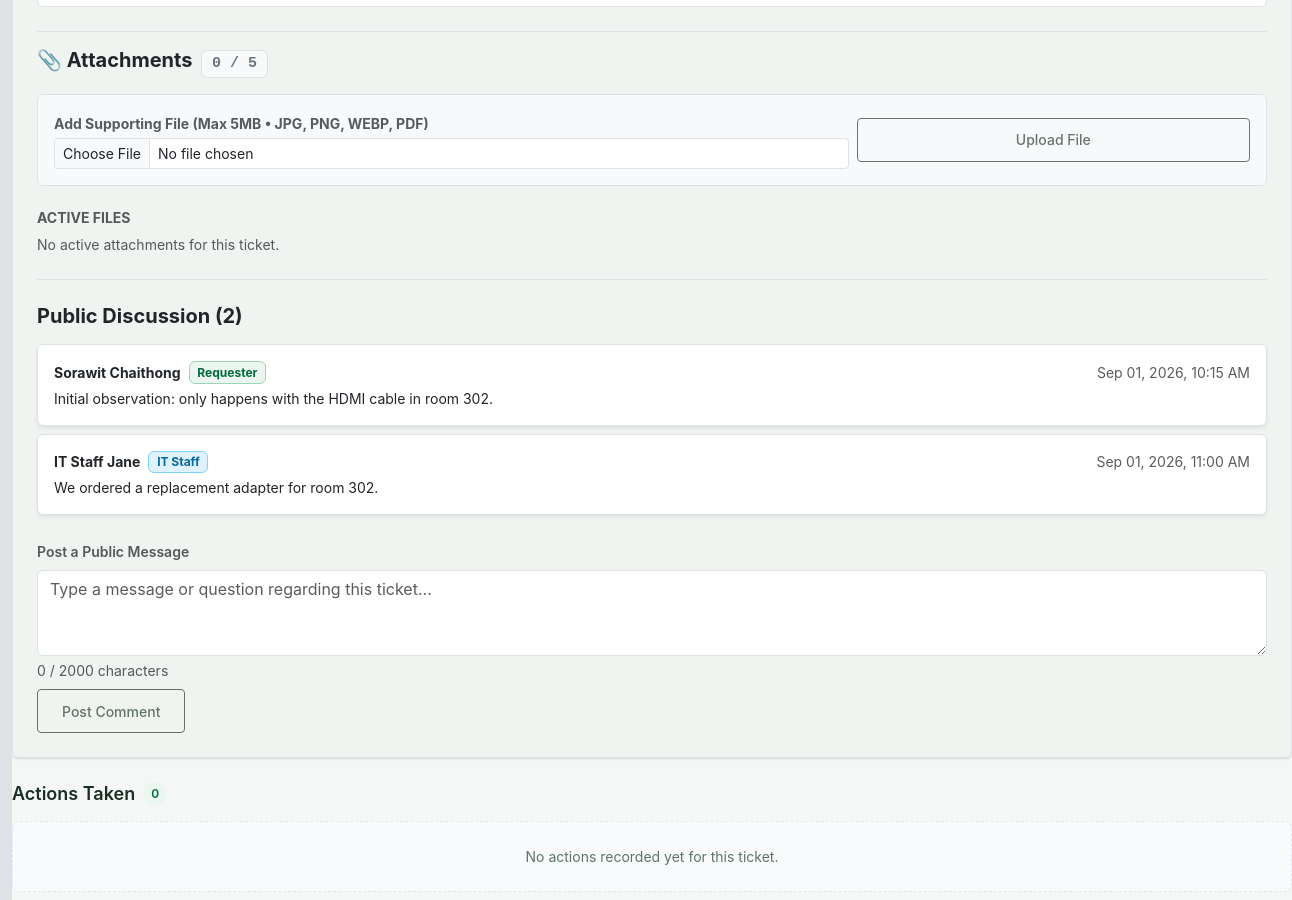
Test case: TicketDetail - Public Comments & Problem Resolution (FR-06, FR-07 / AC-10, AC-11) › UI-03 / AC-10: submits a new public comment and appends it to stream
(page scrolled)
Type "Thank you for the update!" into the text box with test id "new-comment-input" at coordinates (652, 613), box [37,570,1267,656]
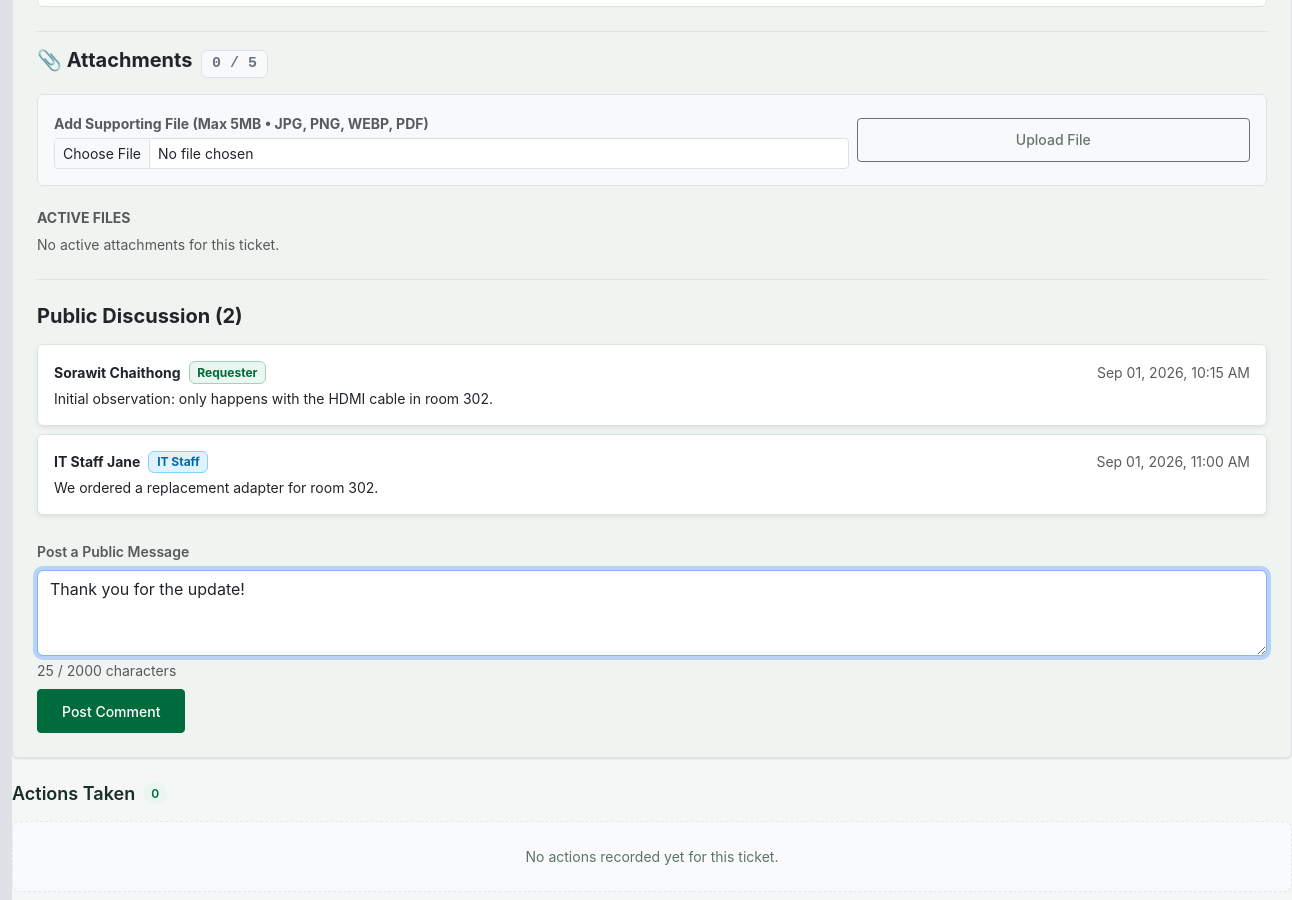
Click the button with test id "submit-comment-btn" at coordinates (111, 711), box [37,689,185,733]
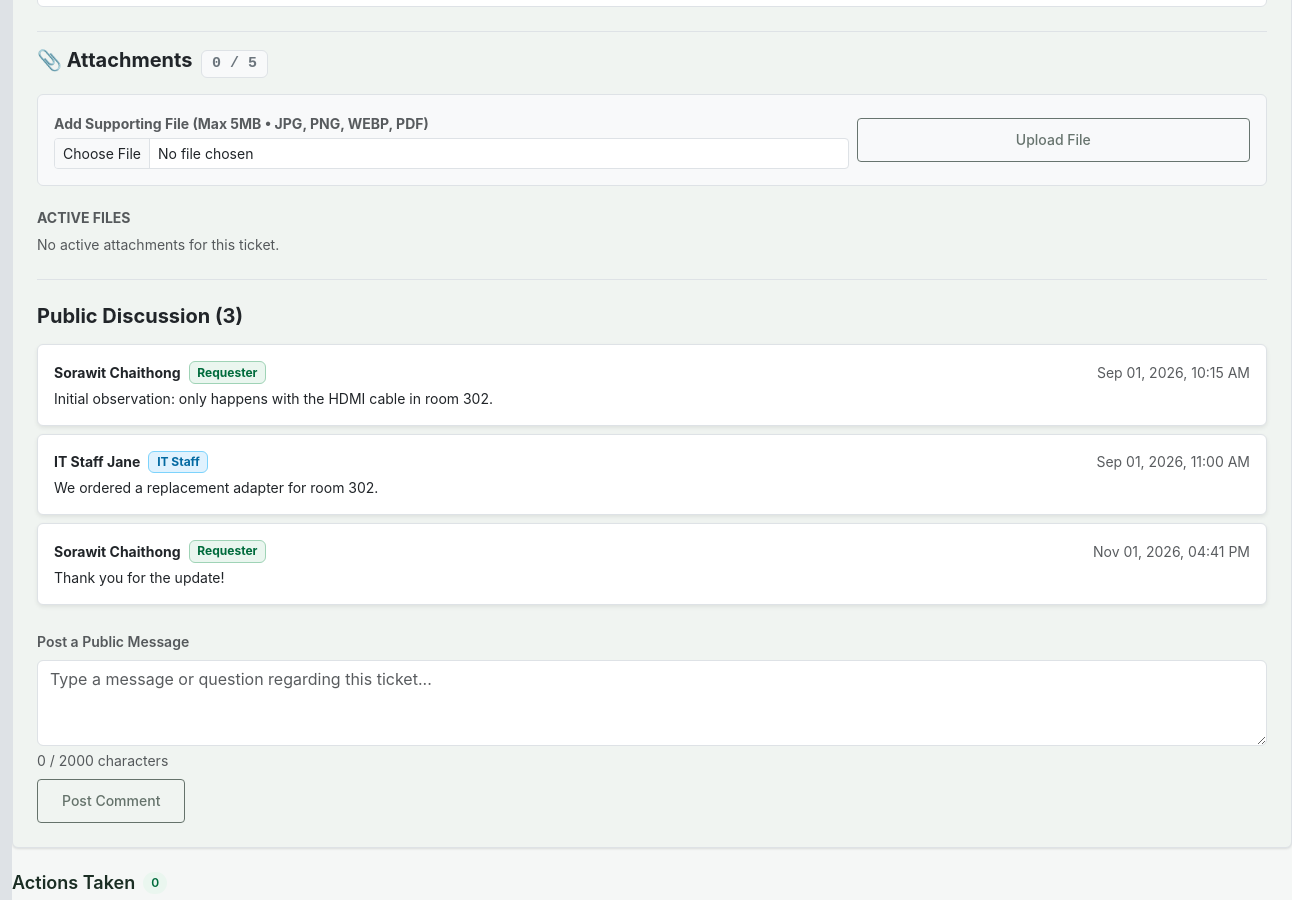
Expected: the text "Thank you for the update!" is shown, [54,568,224,586]
Expected: the text box with test id "new-comment-input" is empty, [37,660,1267,746]
